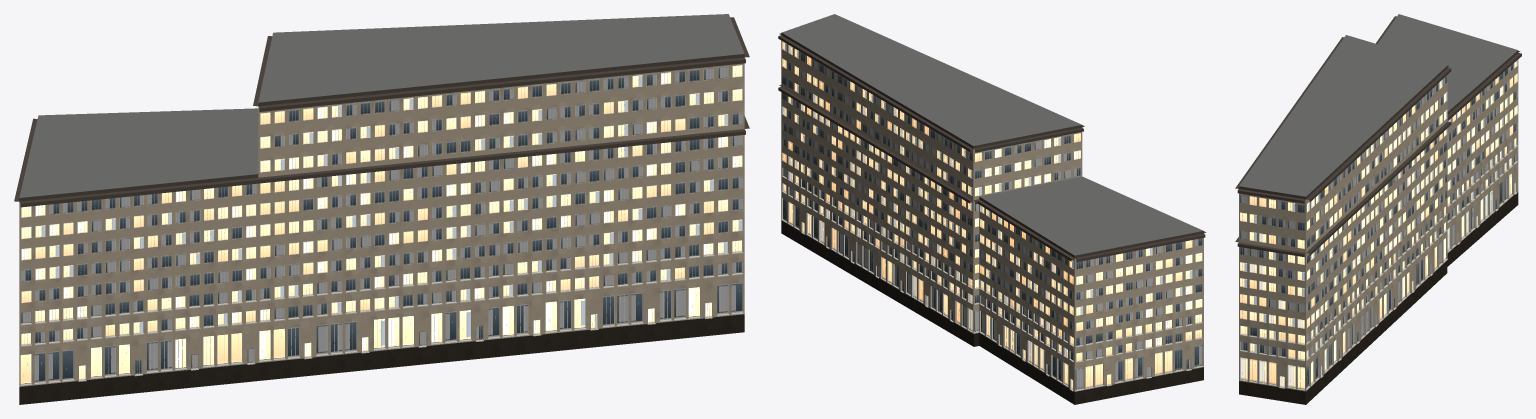
The model's file is europa_riegel.glb.
3 renders of one model, left to right at view 1: azimuth 30°, elevation 25°; view 2: azimuth 150°, elevation 25°; view 3: azimuth 270°, elevation 25°, orthographic. The views are drawn at different scales.
Visible parts, largest first — view 1: europa_riegel; view 2: europa_riegel; view 3: europa_riegel.
Part boxes in pixels (x1,y1,x2,y2): europa_riegel: [14, 14, 749, 404]; europa_riegel: [778, 14, 1206, 404]; europa_riegel: [1235, 14, 1521, 404].
Size of the model in its own units: 114 by 46.36 by 57.87.
3 materials, 3 textured.
